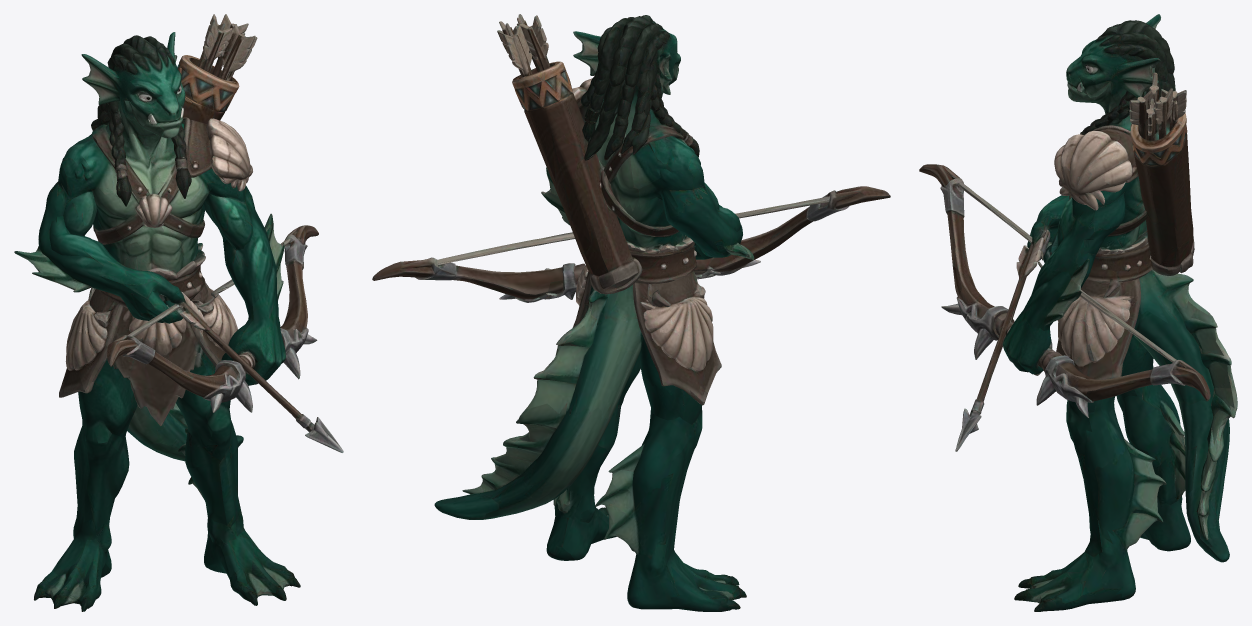
File: scalekin_raider_archer.glb
3 renders of one model, left to right at view 1: azimuth 30°, elevation 25°; view 2: azimuth 150°, elevation 25°; view 3: azimuth 270°, elevation 25°, orthographic. The views are drawn at different scales.
Parts seen in each view (by area): view 1: Mesh_0; view 2: Mesh_0; view 3: Mesh_0.
Boxes of the visible parts, x1,y1,x2,y2 form: Mesh_0: [14, 14, 343, 611]; Mesh_0: [372, 14, 890, 611]; Mesh_0: [919, 14, 1237, 611].
Bounding box in the file's own units: 1.3 × 1.9 × 1.02.
Materials: 1 (1 with a texture image).
